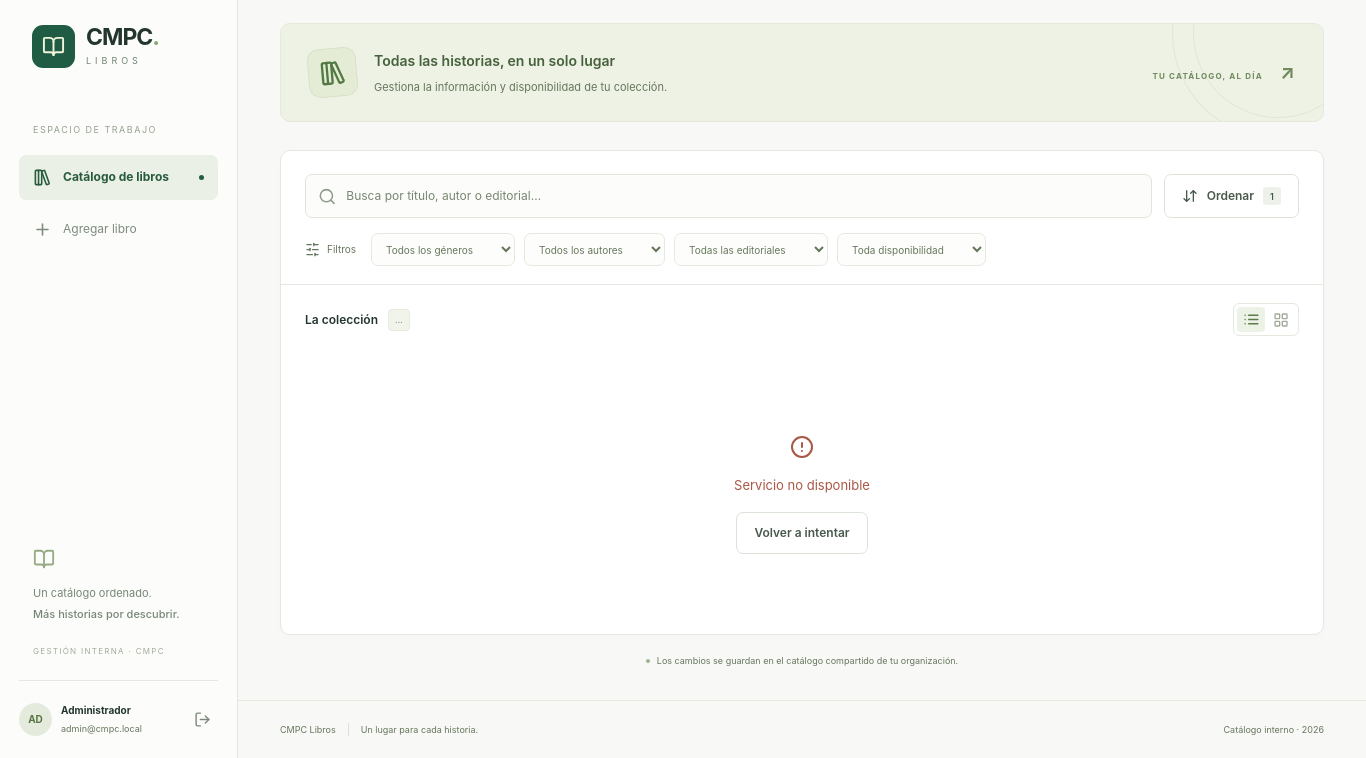
Test case: Catálogo › muestra errores y permite reintentar
The image size is (1366, 758).
(page scrolled)
Check: the message shows "Servicio no disponible", box x1=734 y1=477 x2=870 y2=493
Click the button "Volver a intentar": (802, 533) x1=736 y1=512 x2=868 y2=554
(page scrolled)
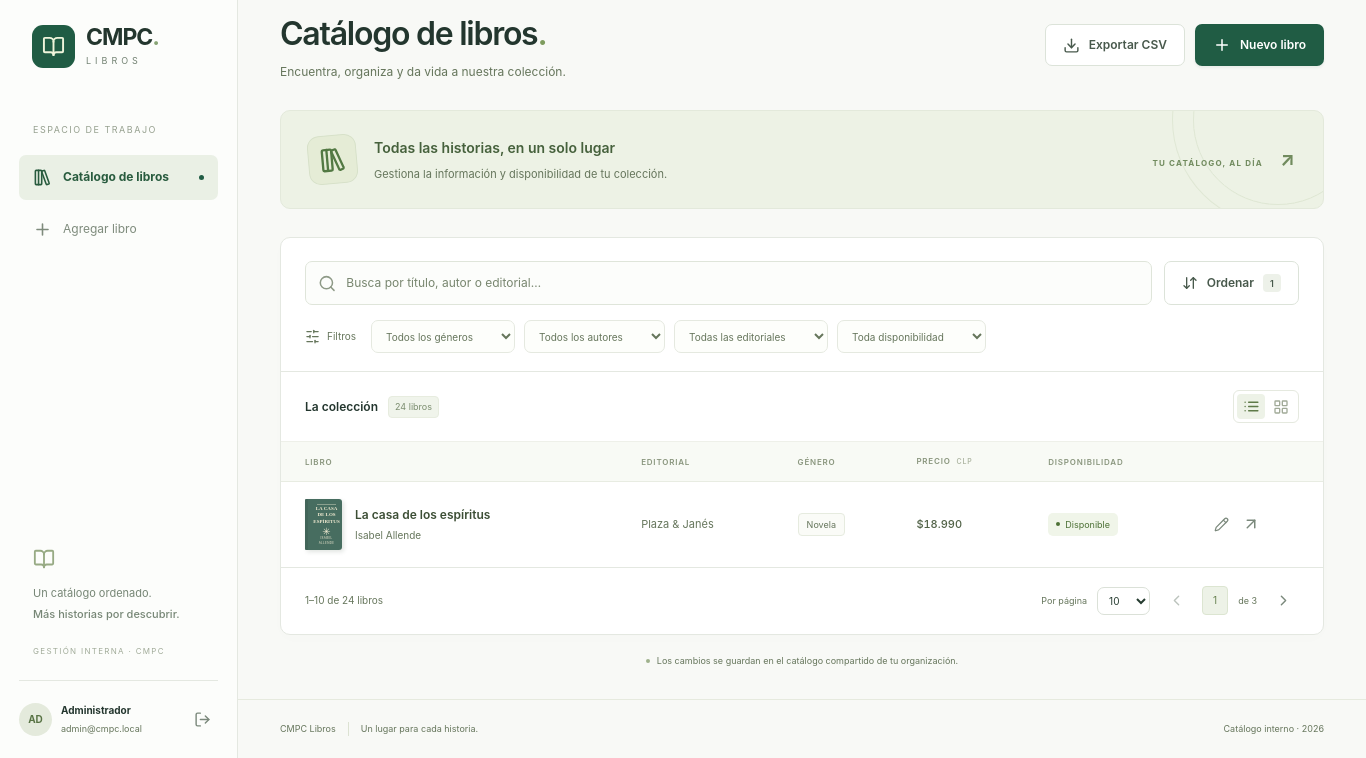
Check: the 1st text "La casa de los espíritus" is shown, box x1=313 y1=506 x2=340 y2=525
